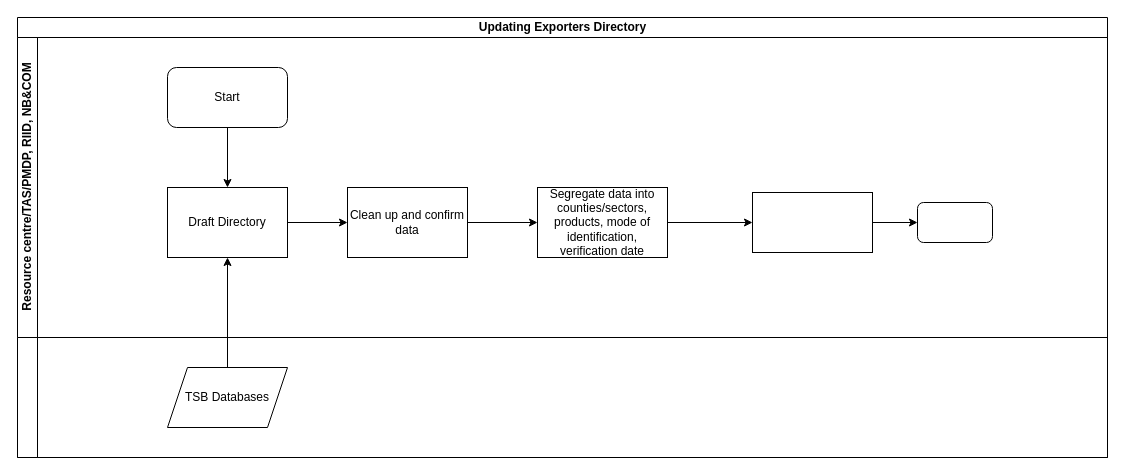
Image size: 1125x475. Some labels were removed from this diagram. Each missing label, with the box of its shape:
End: (916, 202, 992, 242)
Input into the exporters directory: (752, 192, 872, 252)
TSI: (16, 336, 1108, 458)
